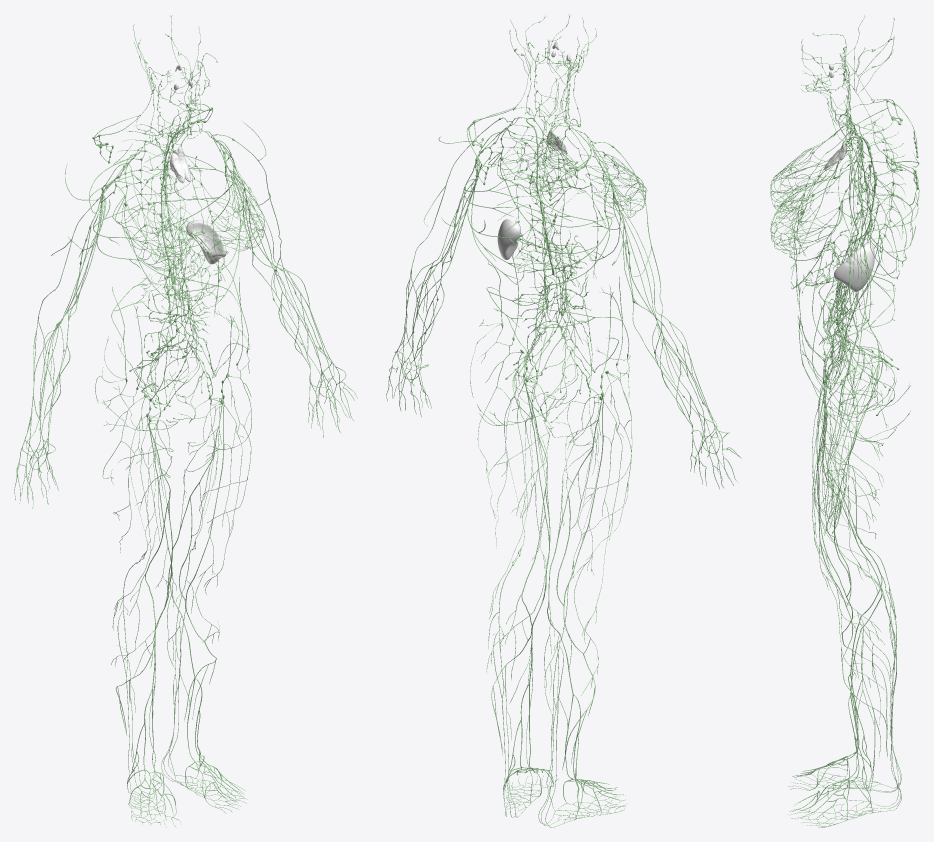
Rendered from female-2024-lymphatic-system-high.glb.
The picture shows the model from 3 angles, left to right: view 1: azimuth 30°, elevation 25°; view 2: azimuth 150°, elevation 25°; view 3: azimuth 270°, elevation 25°; orthographic projection. The views are drawn at different scales.
Visible parts, largest first — view 1: Anteromedial Superficial Lymph Vessels of Lower Limb (×2), Superficial Lymph Vessels of Thoracic Wall (×2), Superficial Lymph Vessels of Forearm (×2), Posterolateral Superficial Lymph Vessels of Lower Limb (×2), Superficial Lymph Vessels of Arm (×2), Spleen, Superficial Lymph Vessels of Abdominal Wall; view 2: Anteromedial Superficial Lymph Vessels of Lower Limb (×2), Superficial Lymph Vessels of Thoracic Wall (×2), Posterolateral Superficial Lymph Vessels of Lower Limb (×2), Superficial Lymph Vessels of Forearm (×2), Superficial Lymph Vessels of Arm (×2), Superficial Lymph Vessels of Abdominal Wall, Spleen; view 3: Anteromedial Superficial Lymph Vessels of Lower Limb (×2), Superficial Lymph Vessels of Thoracic Wall (×2), Posterolateral Superficial Lymph Vessels of Lower Limb (×2), Superficial Lymph Vessels of Arm (×2), Superficial Lymph Vessels of Forearm (×2), Spleen, Superficial Lymph Vessels of Abdominal Wall (×2), Intercostal Lymphatic Trunks (×2), Deep Lymph Vessels of Forearm, Superficial Lymph Vessels of Hand.
Boxes of the visible parts, <box> form: Anteromedial Superficial Lymph Vessels of Lower Limb (×2): <box>95,310,251,827</box>; Superficial Lymph Vessels of Thoracic Wall (×2): <box>89,144,265,311</box>; Superficial Lymph Vessels of Forearm (×2): <box>26,241,331,436</box>; Posterolateral Superficial Lymph Vessels of Lower Limb (×2): <box>112,550,246,825</box>; Superficial Lymph Vessels of Arm (×2): <box>45,122,281,313</box>; Spleen: <box>186,220,226,264</box>; Superficial Lymph Vessels of Abdominal Wall: <box>96,213,190,407</box>; Anteromedial Superficial Lymph Vessels of Lower Limb (×2): <box>470,319,632,825</box>; Superficial Lymph Vessels of Thoracic Wall (×2): <box>463,134,645,275</box>; Posterolateral Superficial Lymph Vessels of Lower Limb (×2): <box>488,566,626,827</box>; Superficial Lymph Vessels of Forearm (×2): <box>398,247,714,431</box>; Superficial Lymph Vessels of Arm (×2): <box>418,120,662,311</box>; Superficial Lymph Vessels of Abdominal Wall: <box>529,218,629,382</box>; Spleen: <box>497,219,520,259</box>; Anteromedial Superficial Lymph Vessels of Lower Limb (×2): <box>788,301,910,820</box>; Superficial Lymph Vessels of Thoracic Wall (×2): <box>770,136,919,289</box>; Posterolateral Superficial Lymph Vessels of Lower Limb (×2): <box>801,549,901,827</box>; Superficial Lymph Vessels of Arm (×2): <box>838,107,895,337</box>; Superficial Lymph Vessels of Forearm (×2): <box>828,214,882,468</box>; Spleen: <box>834,242,874,291</box>; Superficial Lymph Vessels of Abdominal Wall (×2): <box>798,168,899,400</box>; Intercostal Lymphatic Trunks (×2): <box>851,113,905,263</box>; Deep Lymph Vessels of Forearm: <box>830,350,871,471</box>; Superficial Lymph Vessels of Hand: <box>823,461,847,509</box>.
Bounding box in the file's own units: 29.02 × 62.59 × 10.9.
